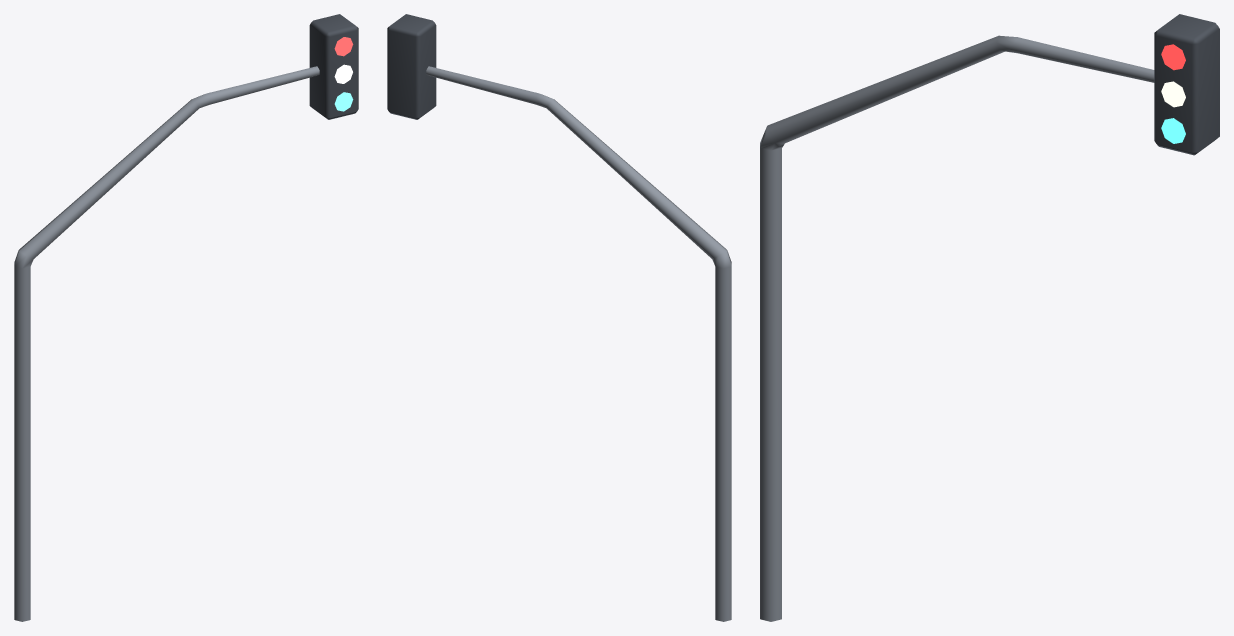
Rendered from traffic_light_001_pacote.glb.
3 views of the same model, side by side, from view 1: azimuth 30°, elevation 25°; view 2: azimuth 150°, elevation 25°; view 3: azimuth 330°, elevation 25° (orthographic). The views are drawn at different scales.
Parts seen in each view (by area): view 1: traffic_light_001_pacote; view 2: traffic_light_001_pacote; view 3: traffic_light_001_pacote.
Part boxes in pixels (left/top/right/bottom): traffic_light_001_pacote: left=14, top=14, right=358, bottom=621; traffic_light_001_pacote: left=387, top=14, right=731, bottom=621; traffic_light_001_pacote: left=760, top=14, right=1219, bottom=621.
Bounding box in the file's own units: 3.99 × 5.88 × 0.4026.
Materials: 4 (1 with a texture image).
